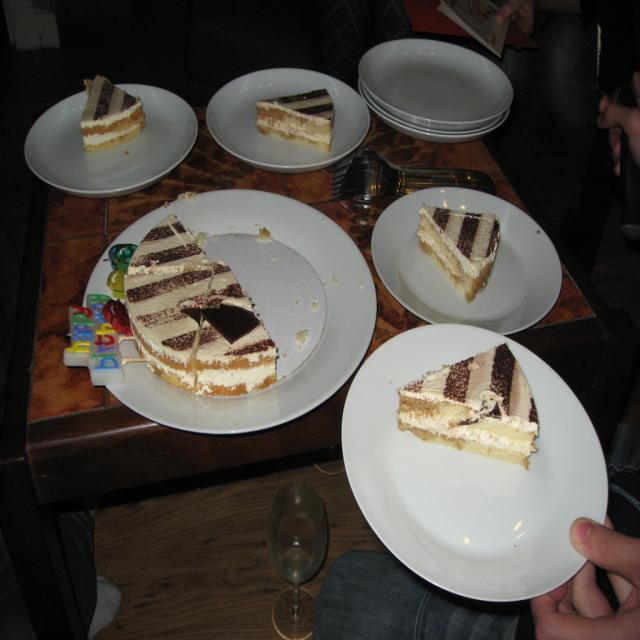non-organic waste: (81, 176, 390, 486), (318, 313, 604, 640), (332, 150, 559, 352)
